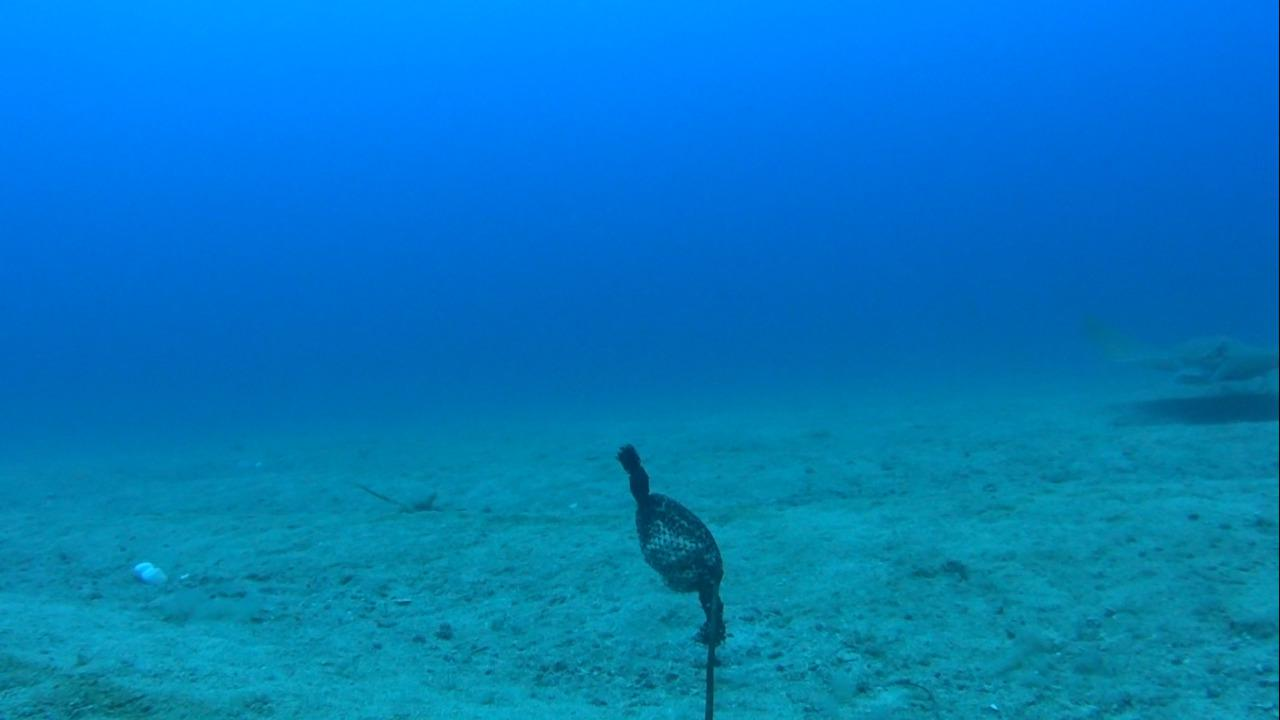myliobatis: (1072, 304, 1279, 394)
